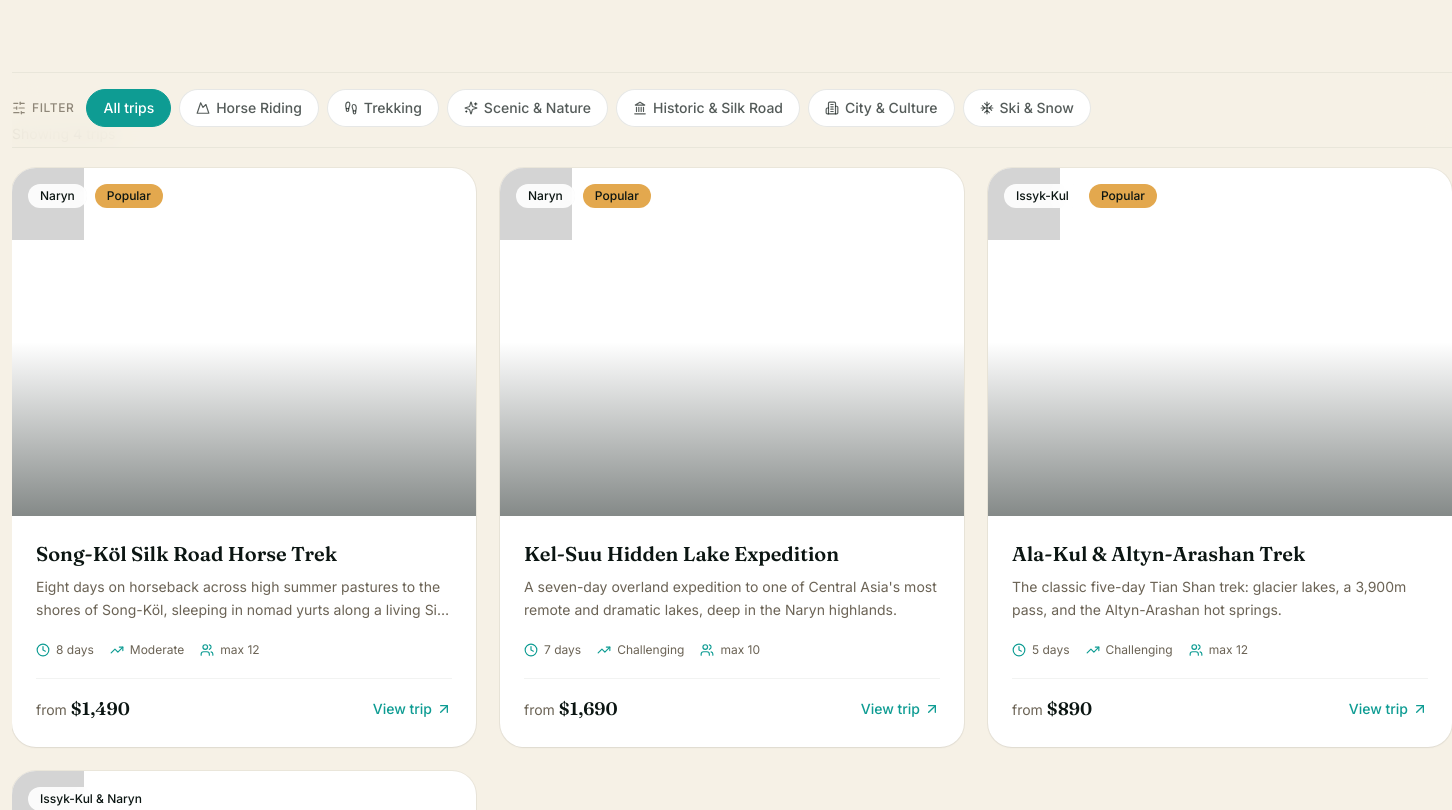
it: TripsExplorer › shows a helpful empty state with no matches
Click the button "Ski & Snow" at (1027, 108), box [962,89,1091,127]
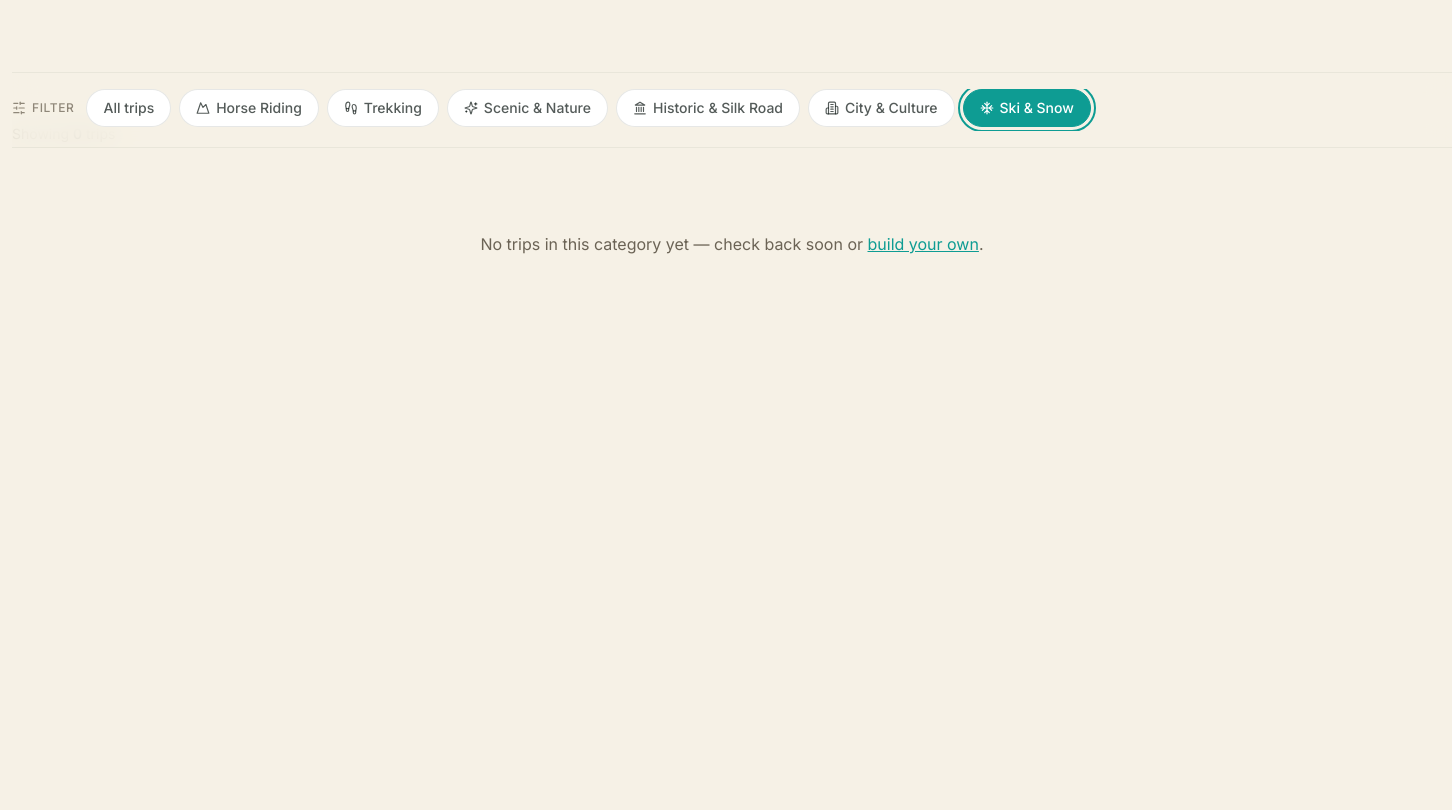
Now the text "No trips in this category" is shown, box [480,234,863,254]
Now the link "build your own" is shown, box [868,234,979,254]
